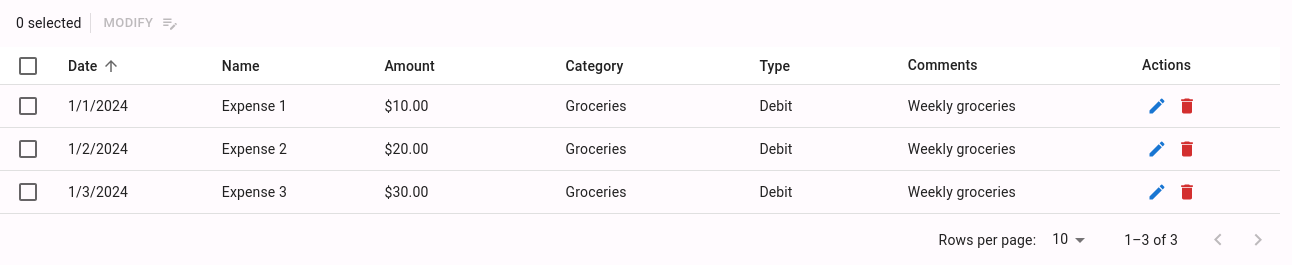
it: ImportReviewTable › selection › should select all rows when header checkbox is clicked
The width and height of the screenshot is (1292, 265).
Click the checkbox named "Select all expenses".
click(28, 66)  # box [16,54,40,78]
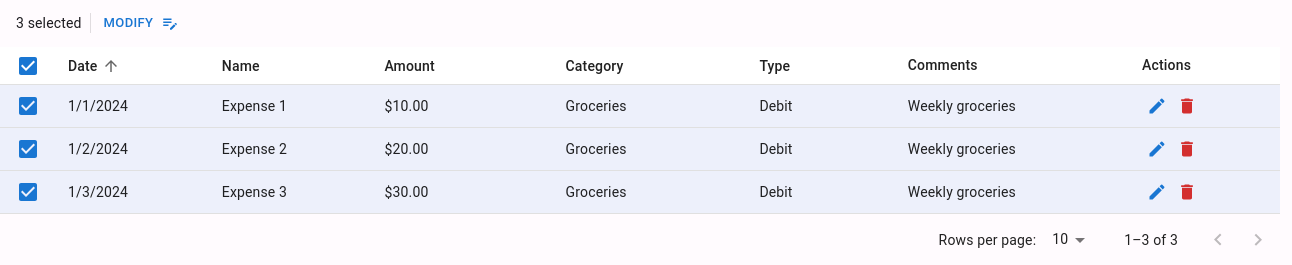
Now the text "3 selected" is shown, box [16,13,91,33]
